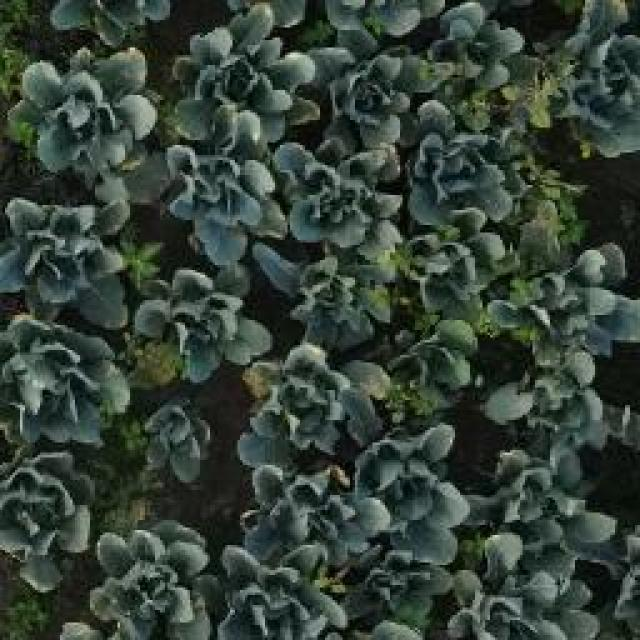cabbage: (15, 58, 152, 170), (545, 0, 640, 138), (0, 192, 110, 310), (260, 358, 380, 465), (95, 530, 210, 640), (180, 24, 299, 130), (365, 444, 474, 558), (6, 328, 117, 435), (398, 222, 506, 328), (521, 249, 626, 357), (288, 149, 394, 253), (502, 362, 614, 460), (455, 564, 599, 640), (142, 275, 259, 366), (249, 473, 367, 562), (0, 455, 88, 573), (175, 157, 279, 253), (412, 126, 514, 218), (495, 467, 603, 553), (338, 55, 436, 143), (288, 267, 384, 355), (225, 563, 321, 640), (143, 407, 210, 489)
